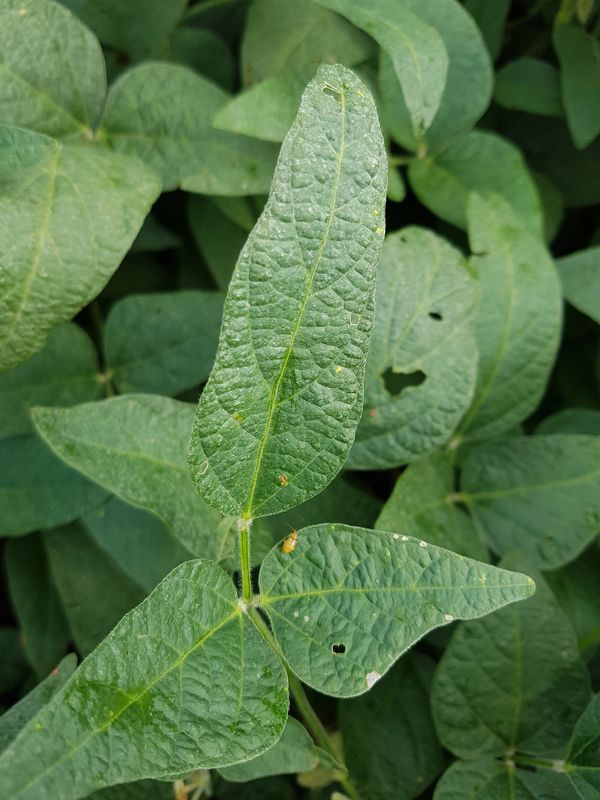Diabrotica_speciosa: (272, 524, 301, 558)
